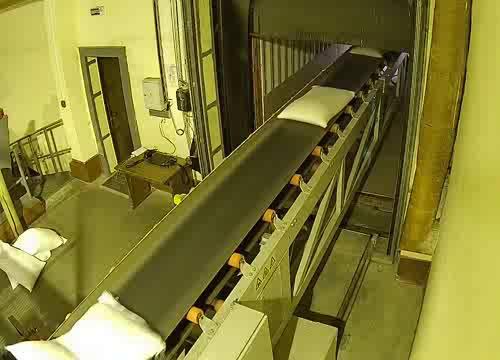bag: (4, 290, 168, 360), (273, 80, 358, 131), (346, 43, 387, 64)
